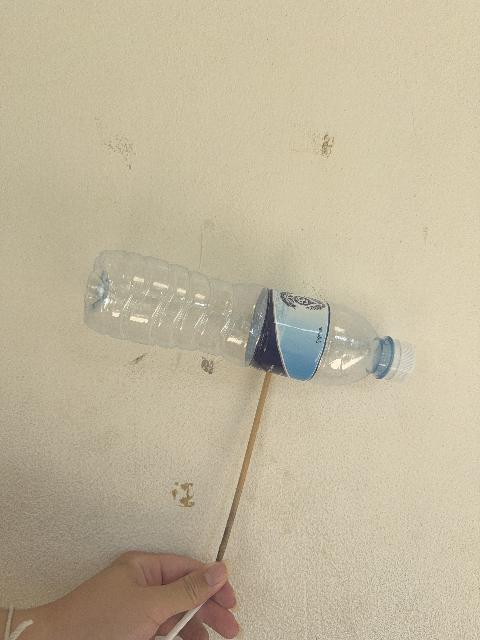bottle: (84, 251, 414, 385)
